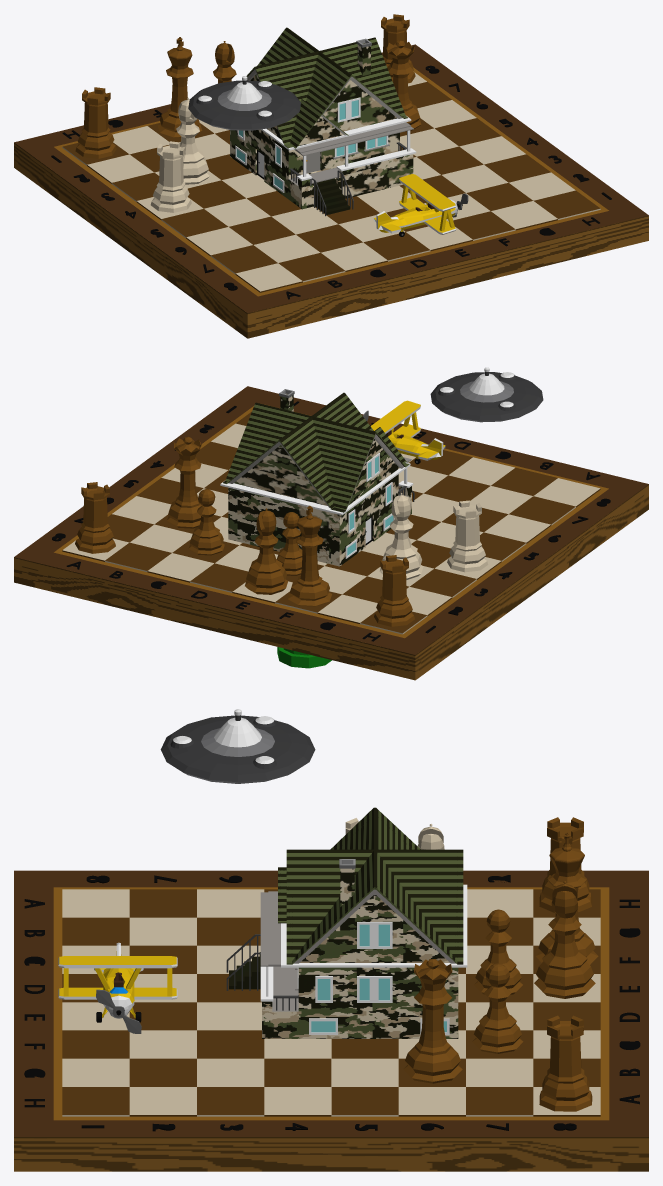
The picture shows the model from 3 angles, top to bottom: view 1: azimuth 30°, elevation 25°; view 2: azimuth 150°, elevation 25°; view 3: azimuth 270°, elevation 25°; orthographic projection. The views are drawn at different scales.
Parts seen in each view (by area): view 1: Cube.002, Cube.001, OBJRANDOM_UFO, VEHICLES_AIRPLANE; view 2: Cube.002, Cube.001, OBJRANDOM_UFO, VEHICLES_AIRPLANE, UNDERGROUND_PIPES; view 3: Cube.002, Cube.001, OBJRANDOM_UFO, VEHICLES_AIRPLANE.
Part boxes in pixels (bbox=[...]): Cube.002: bbox=[14, 14, 648, 338]; Cube.001: bbox=[230, 27, 416, 216]; OBJRANDOM_UFO: bbox=[188, 76, 300, 130]; VEHICLES_AIRPLANE: bbox=[373, 174, 468, 236]; Cube.002: bbox=[14, 386, 648, 680]; Cube.001: bbox=[220, 389, 414, 566]; OBJRANDOM_UFO: bbox=[430, 367, 543, 422]; VEHICLES_AIRPLANE: bbox=[363, 400, 445, 464]; UNDERGROUND_PIPES: bbox=[277, 647, 331, 668]; Cube.002: bbox=[14, 817, 648, 1171]; Cube.001: bbox=[226, 807, 467, 1038]; OBJRANDOM_UFO: bbox=[160, 709, 315, 783]; VEHICLES_AIRPLANE: bbox=[58, 942, 177, 1033].
Bounding box in the file's own units: 3981 × 2392 × 4012.
Materials: 33 (4 with a texture image).
